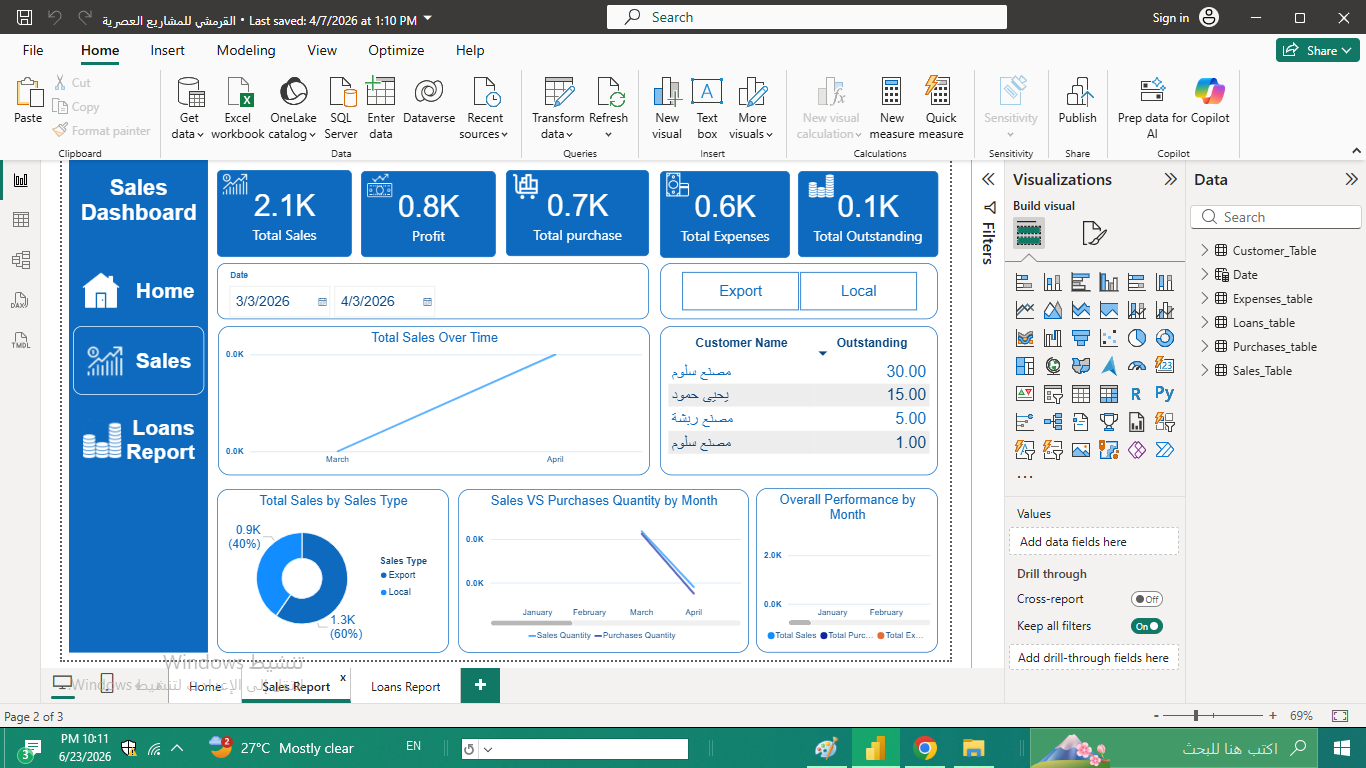

The dashboard page shown, as its layout file describes it:
{"tool":"powerbi","page":{"name":"Sales Report","canvas":[1280,720],"ordinal":1},"visuals":[{"type":"shape","box":[10.8,0,200,709.2],"z":0},{"type":"textbox","box":[15.4,15.4,189.2,101.5],"z":1000},{"type":"actionButton","box":[15.8,148.3,188.6,80.6],"z":2000},{"type":"actionButton","box":[15.8,239,188.6,99.4],"z":3000},{"type":"actionButton","box":[17.3,351.4,187.2,102.2],"z":4000},{"type":"card","fields":{"Values":["Sum(Sales_Table.Total_Sales)"]},"box":[223.2,14.4,194.4,125.3],"z":5000},{"type":"card","fields":{"Values":["Sales_Table.Profit"]},"box":[430.6,15.8,194.4,123.8],"z":6000},{"type":"card","fields":{"Values":["Sum(Purchases_table.Total_purchase)"]},"box":[639.4,14.4,205.9,123.8],"z":7000},{"type":"card","fields":{"Values":["Sum(Expenses_table.Amount)"]},"box":[861.1,15.8,187.2,125.3],"z":8000},{"type":"card","fields":{"Values":["Sales_Table.Total_unpaid"]},"box":[1059.8,15.8,201.6,123.8],"z":9000},{"type":"slicer","fields":{"Values":["Date.Date"]},"box":[223.2,148.3,622.1,80.6],"z":10000},{"type":"slicer","fields":{"Values":["Sales_Table.Sales_Type"]},"box":[861.1,148.3,400.3,80.6],"z":11000},{"type":"tableEx","fields":{"Values":["Customer_Table.Customer_Name","Sales_Table.Unpaid_Amount"]},"box":[861.1,239,400.3,214.6],"z":12000},{"type":"lineChart","title":"Sales VS Purchases Quantity by Month","fields":{"Category":["Date.Date.Variation.Date Hierarchy.Month"],"Y":["Sum(Sales_Table.Quantity)"],"Y2":["Sum(Purchases_table.Quantity)"]},"box":[570.2,473.8,419,236.2],"z":13000},{"type":"donutChart","title":"Total Sales by Sales Type","fields":{"Category":["Sales_Table.Sales_Type"],"Y":["Sum(Sales_Table.Total_Sales)"]},"box":[223.2,473.8,334.1,236.2],"z":14000},{"type":"image","box":[223.2,14.4,51.8,40.3],"z":15000},{"type":"image","box":[430.6,18.7,54.7,36],"z":16000},{"type":"image","box":[1071.4,18.7,43.2,36],"z":17000},{"type":"image","box":[639.4,15.8,56.2,44.6],"z":18000},{"type":"image","box":[861.1,15.8,50.4,38.9],"z":19000},{"type":"lineChart","title":"Total Sales Over Time","fields":{"Y":["CountNonNull(Sales_Table.Total_Sales)"],"Category":["Date.Date.Variation.Date Hierarchy.Month"]},"box":[224.6,239,622.1,214.6],"z":20000},{"type":"clusteredColumnChart","title":"Overall Performance by Month","fields":{"Y":["Sales_Table.Total_Sales_M","Purchases_table.Total_Pur_M","Expenses_table.Total_Expenses"],"Category":["Date.Date.Variation.Date Hierarchy.Month"]},"box":[999.5,472,262,236.9],"z":21000}]}

Visuals, with their boxes on the page's 1280x720 design canvas (x1, y1, x2, y2). These are canvas units, not pixel positions in the 1366x768 screenshot, which may show the page scaled, cropped or inside an application window:
shape: box(11, 0, 211, 709)
textbox: box(15, 15, 205, 117)
actionButton: box(16, 148, 204, 229)
actionButton: box(16, 239, 204, 338)
actionButton: box(17, 351, 204, 454)
card - Sum(Sales_Table.Total_Sales): box(223, 14, 418, 140)
card - Sales_Table.Profit: box(431, 16, 625, 140)
card - Sum(Purchases_table.Total_purchase): box(639, 14, 845, 138)
card - Sum(Expenses_table.Amount): box(861, 16, 1048, 141)
card - Sales_Table.Total_unpaid: box(1060, 16, 1261, 140)
slicer - Date.Date: box(223, 148, 845, 229)
slicer - Sales_Table.Sales_Type: box(861, 148, 1261, 229)
tableEx - Customer_Table.Customer_Name x Sales_Table.Unpaid_Amount: box(861, 239, 1261, 454)
"Sales VS Purchases Quantity by Month" lineChart: box(570, 474, 989, 710)
"Total Sales by Sales Type" donutChart: box(223, 474, 557, 710)
image: box(223, 14, 275, 55)
image: box(431, 19, 485, 55)
image: box(1071, 19, 1115, 55)
image: box(639, 16, 696, 60)
image: box(861, 16, 912, 55)
"Total Sales Over Time" lineChart: box(225, 239, 847, 454)
"Overall Performance by Month" clusteredColumnChart: box(1000, 472, 1262, 709)
